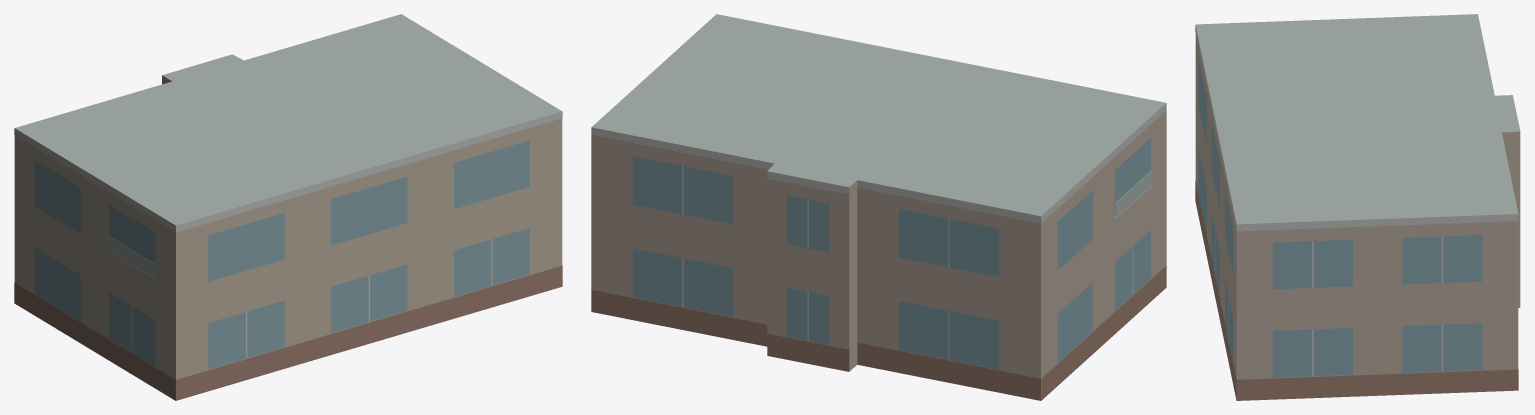
File: survey-upis-32625758.glb
3 renders of one model, left to right at view 1: azimuth 30°, elevation 25°; view 2: azimuth 150°, elevation 25°; view 3: azimuth 270°, elevation 25°, orthographic. The views are drawn at different scales.
Visible parts, largest first — view 1: survey-upis-32625758.tmp; view 2: survey-upis-32625758.tmp; view 3: survey-upis-32625758.tmp.
Boxes of the visible parts, x1=… form: survey-upis-32625758.tmp: x1=14, y1=14, x2=562, y2=400; survey-upis-32625758.tmp: x1=591, y1=14, x2=1166, y2=400; survey-upis-32625758.tmp: x1=1195, y1=14, x2=1520, y2=400.
Size of the model in its own units: 15.6 by 6.1 by 10.19.
